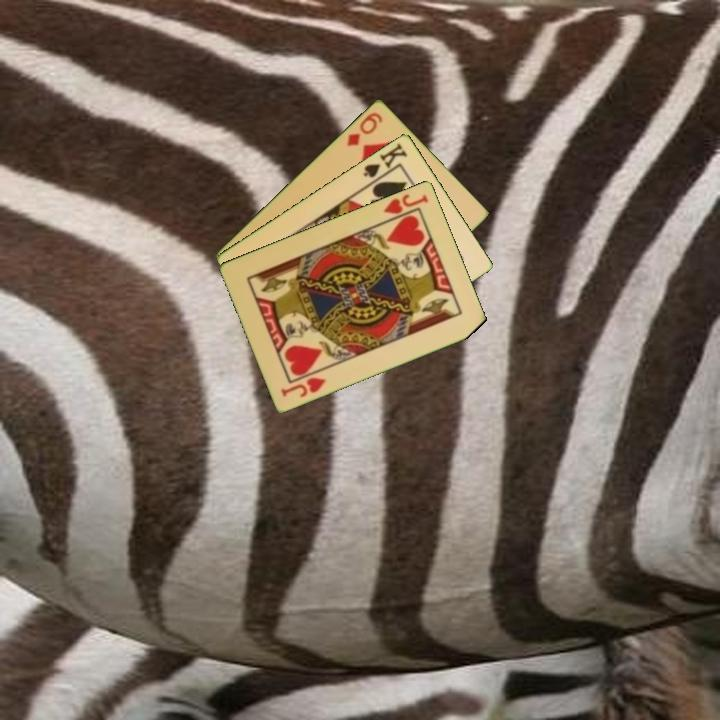6d: (343, 108, 385, 149)
Jh: (277, 373, 329, 400), (380, 190, 431, 217)
Ks: (360, 139, 410, 186)
